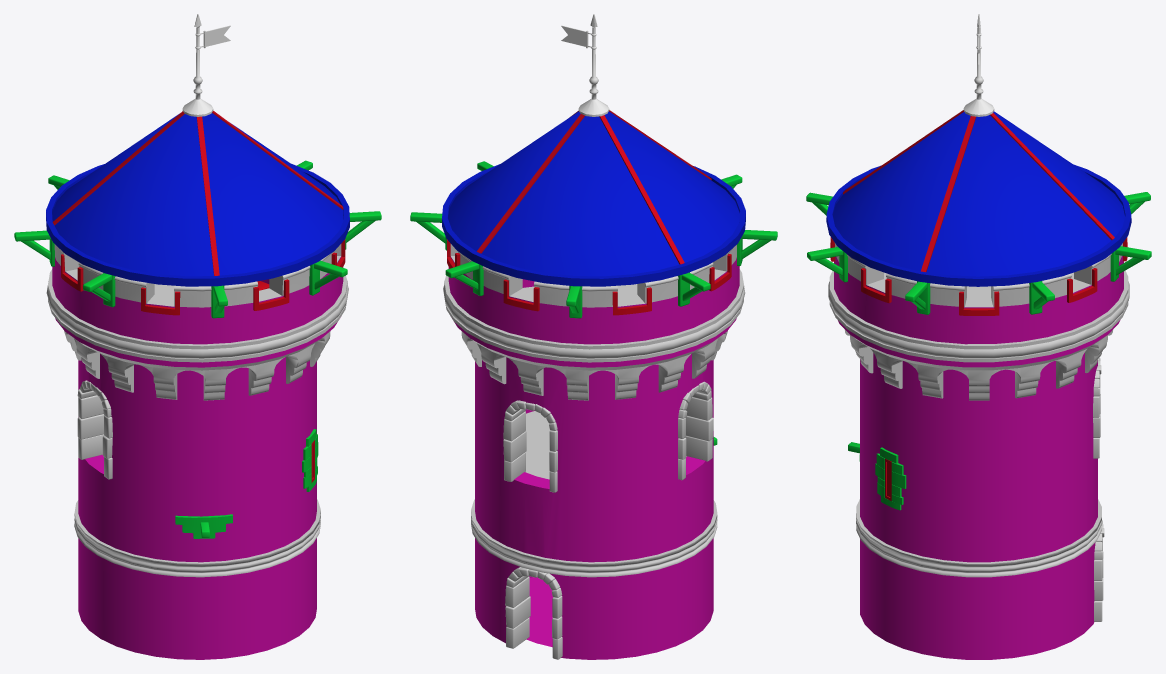
The model's file is Tower_2.fbx.
3 renders of one model, left to right at view 1: azimuth 30°, elevation 25°; view 2: azimuth 150°, elevation 25°; view 3: azimuth 270°, elevation 25°, orthographic.
Visible parts, largest first — view 1: Tower_1.004, Group_4.010, Group_4.011, Group_2, Group_2.007; view 2: Tower_1.004, Group_4.010, Cylinder.002, Group_4.011; view 3: Tower_1.004, Group_4.010, Group_2.007, Group_4.011.
Boxes of the visible parts, x1,y1,x2,y2 form: Tower_1.004: (46,239,348,659); Group_4.010: (14,111,381,318); Group_4.011: (182,14,230,116); Group_2: (175,514,232,538); Group_2.007: (302,429,318,491); Tower_1.004: (443,239,745,659); Group_4.010: (410,110,777,318); Cylinder.002: (523,284,686,479); Group_4.011: (561,14,609,116); Tower_1.004: (828,237,1129,659); Group_4.010: (806,110,1151,314); Group_2.007: (875,447,906,510); Group_4.011: (963,14,994,116).
Bounding box in the file's own units: 933 × 1774 × 933.
